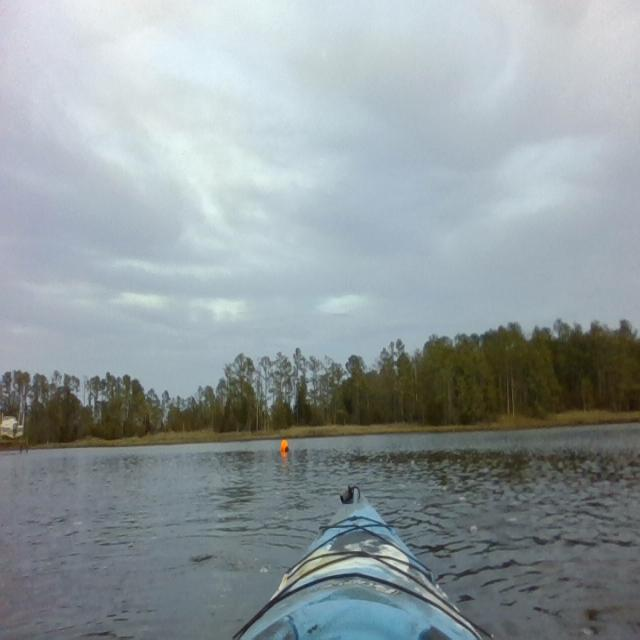Buoy: (279, 438, 290, 455)
